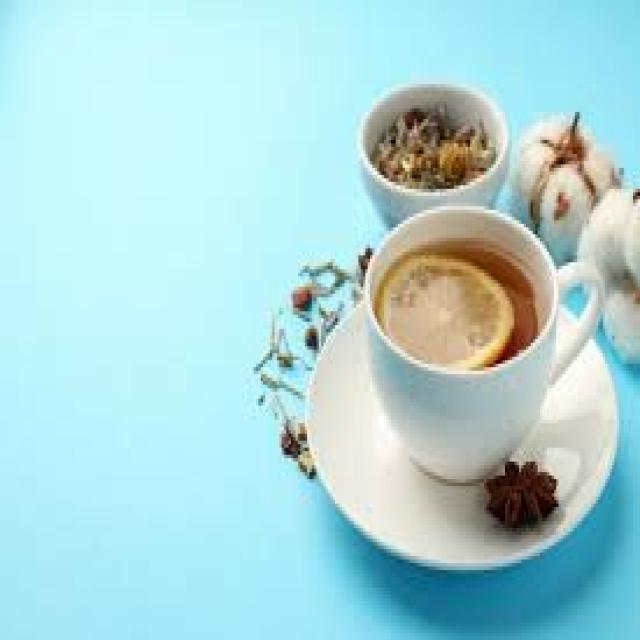taza: (343, 204, 613, 483)
